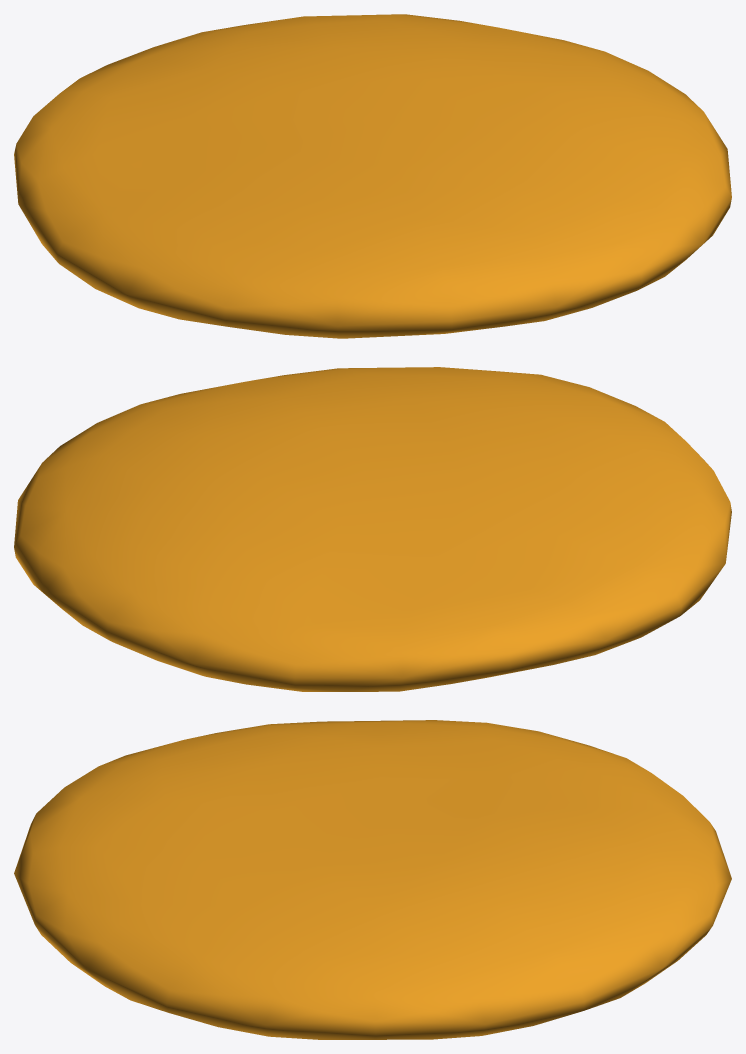
The model's file is Pizza0.fbx.
3 renders of one model, top to bottom at view 1: azimuth 30°, elevation 25°; view 2: azimuth 150°, elevation 25°; view 3: azimuth 270°, elevation 25°, orthographic.
Visible parts, largest first — view 1: Base; view 2: Base; view 3: Base.
Part boxes in pixels (bbox=[...]): Base: bbox=[14, 14, 731, 338]; Base: bbox=[14, 367, 731, 691]; Base: bbox=[14, 720, 731, 1039].
Bounding box in the file's own units: 184 × 34.18 × 186.
